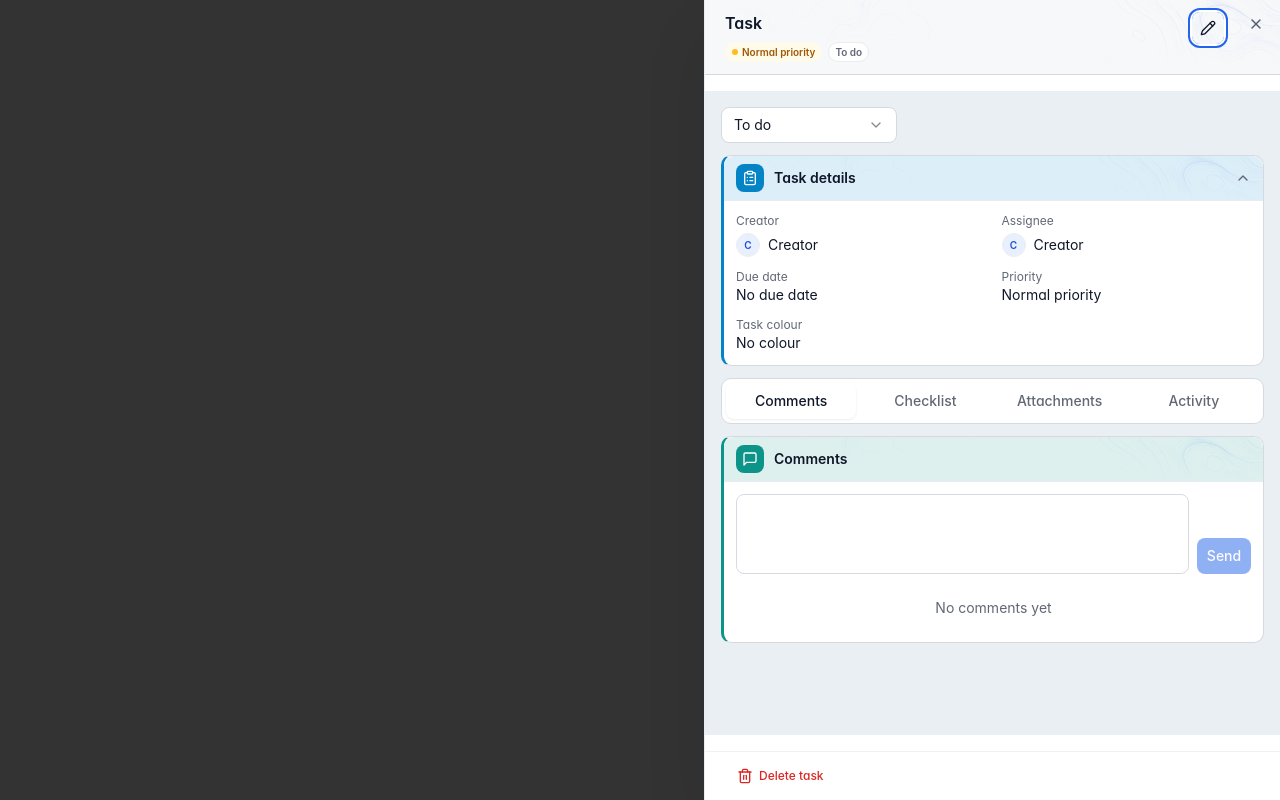
task drafts and pending submissions › submits one comment and preserves text typed while that request is pending
The image size is (1280, 800).
In the text box named "Comment": x=962, y=534 [736, 494, 1189, 574], type "First"
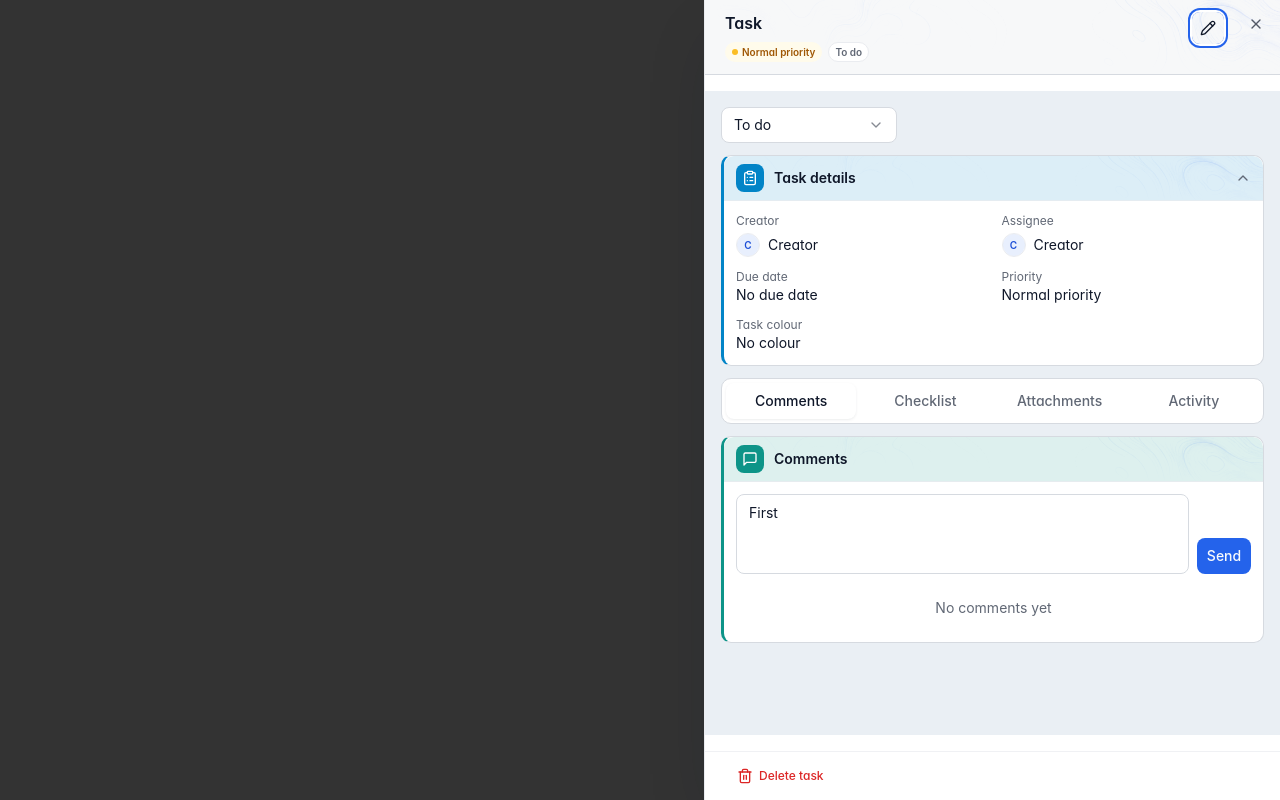
Press Enter in the text box named "Comment", box [736, 494, 1189, 574]
Press Enter in the text box named "Comment", box [736, 494, 1189, 574]
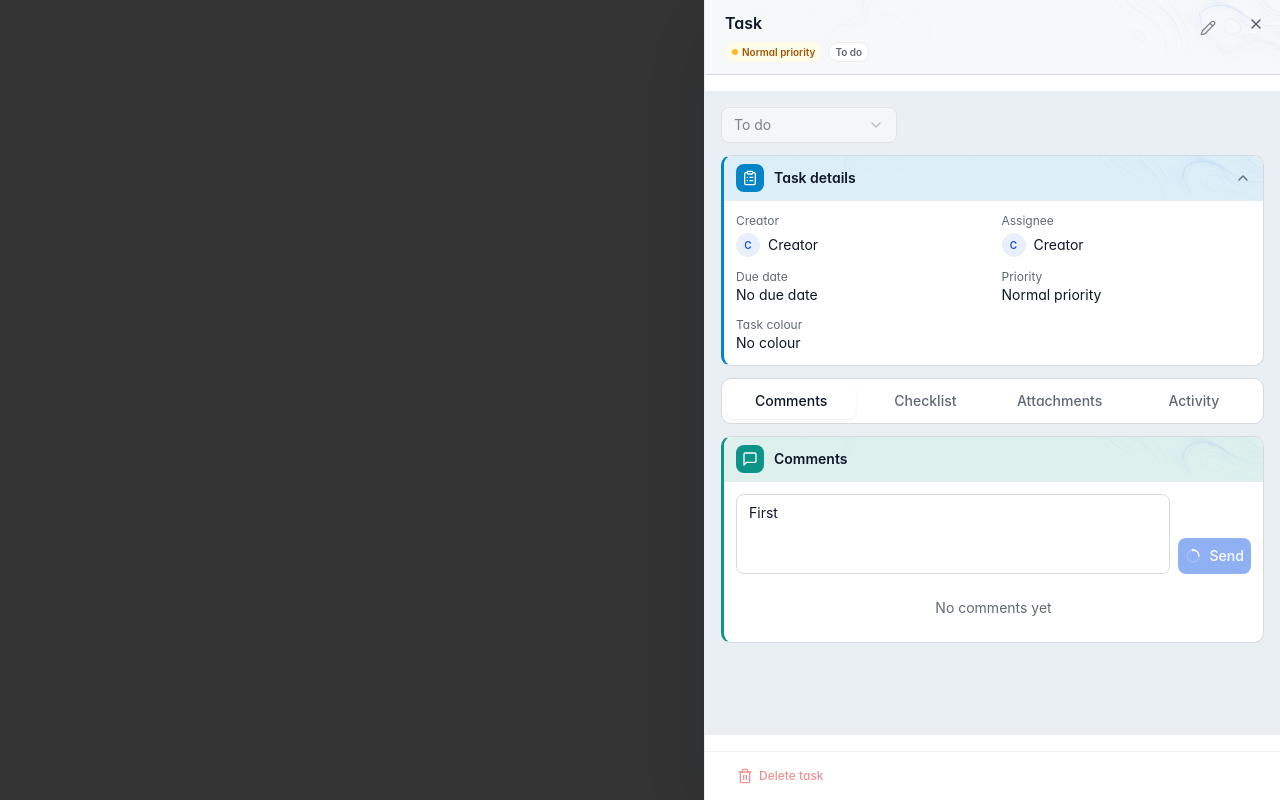
Replace the text in the text box named "Comment" with "Next draft": x=953, y=534 [736, 494, 1170, 574]
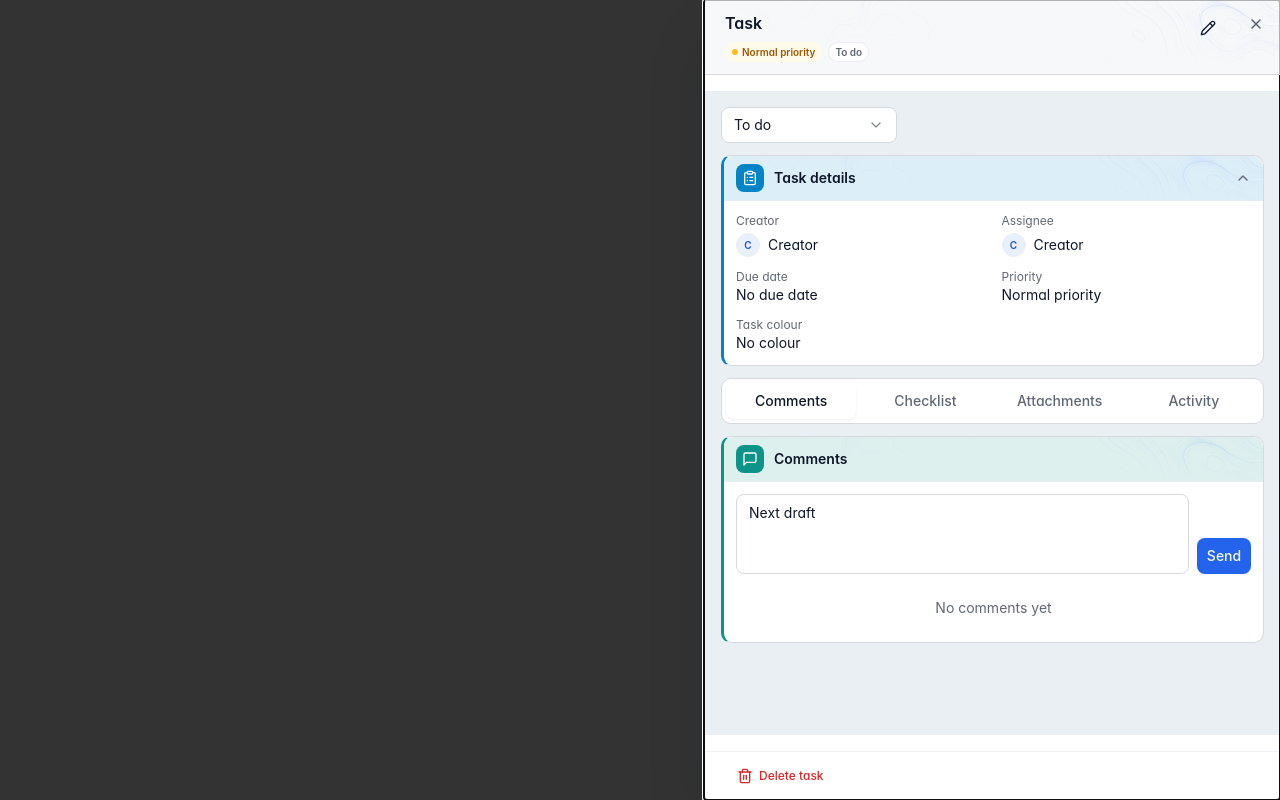
Now the button "Send" is enabled, box [1197, 538, 1251, 574]
